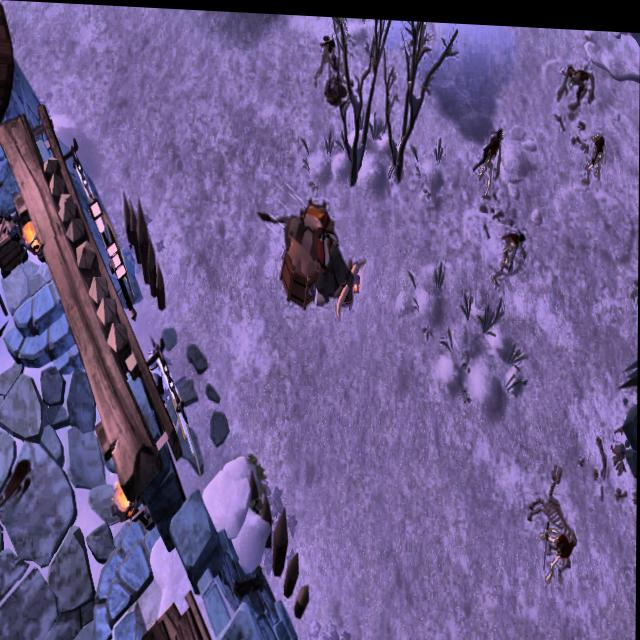enemy_factionUndead: (473, 121, 505, 196), (557, 51, 595, 107), (541, 522, 579, 574), (493, 223, 525, 281), (314, 27, 340, 89), (581, 124, 605, 180)
